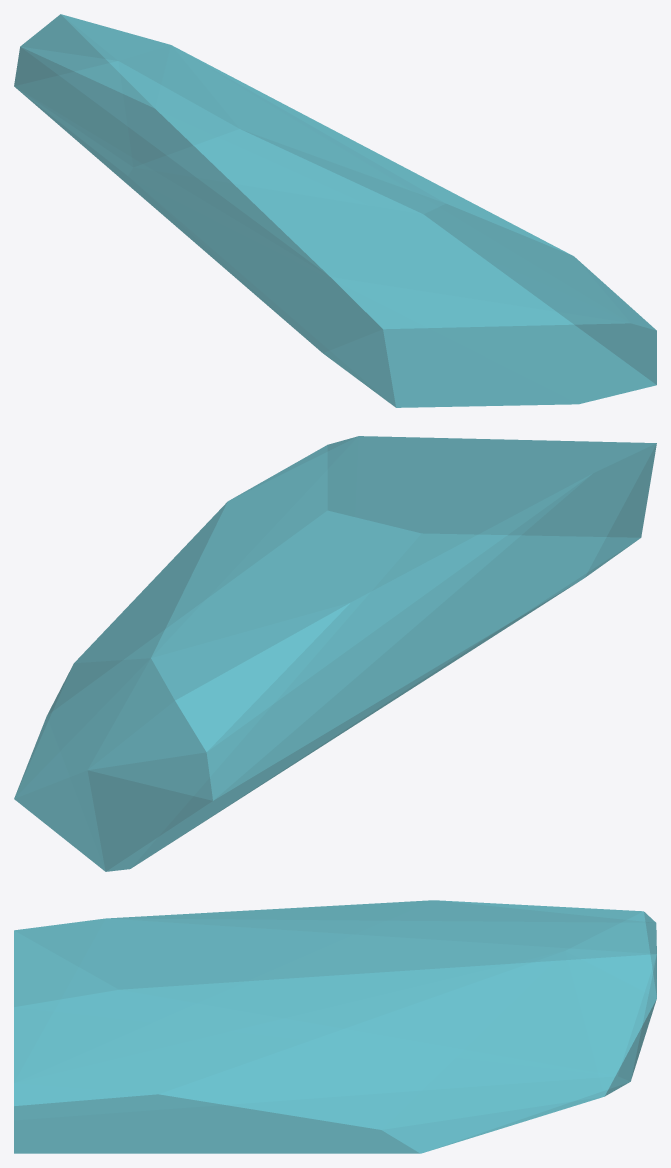
3 views of the same model, one above another, from view 1: azimuth 30°, elevation 25°; view 2: azimuth 150°, elevation 25°; view 3: azimuth 270°, elevation 25° (orthographic). The views are drawn at different scales.
Visible parts, largest first — view 1: Shape_IndexedFaceSet.031_Shape_IndexedFaceSet.17566; view 2: Shape_IndexedFaceSet.031_Shape_IndexedFaceSet.17566; view 3: Shape_IndexedFaceSet.031_Shape_IndexedFaceSet.17566.
Part boxes in pixels (x1,y1,x2,y2): Shape_IndexedFaceSet.031_Shape_IndexedFaceSet.17566: (14, 14, 656, 407); Shape_IndexedFaceSet.031_Shape_IndexedFaceSet.17566: (14, 436, 656, 871); Shape_IndexedFaceSet.031_Shape_IndexedFaceSet.17566: (14, 900, 656, 1153).
Size of the model in its own units: 0.057 by 0.0326 by 0.1331.
